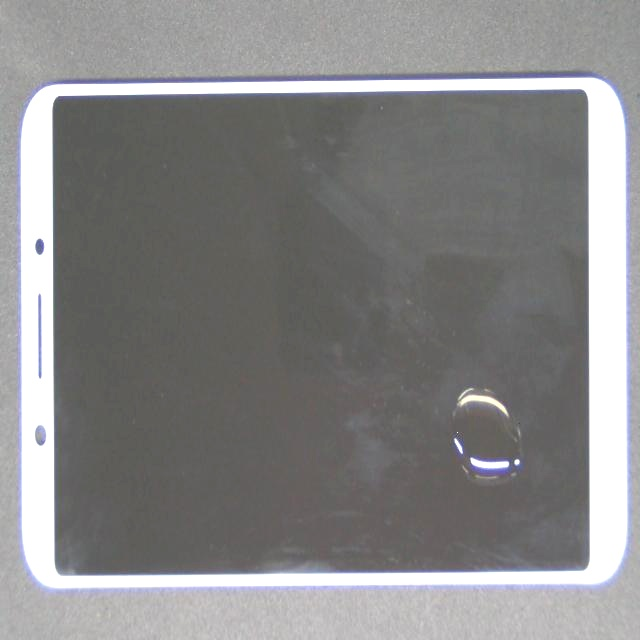oil: (261, 181, 640, 582)
